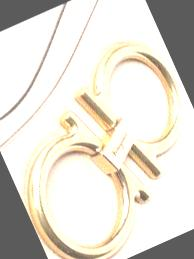FERRAGAMO: (0, 8, 194, 259)
